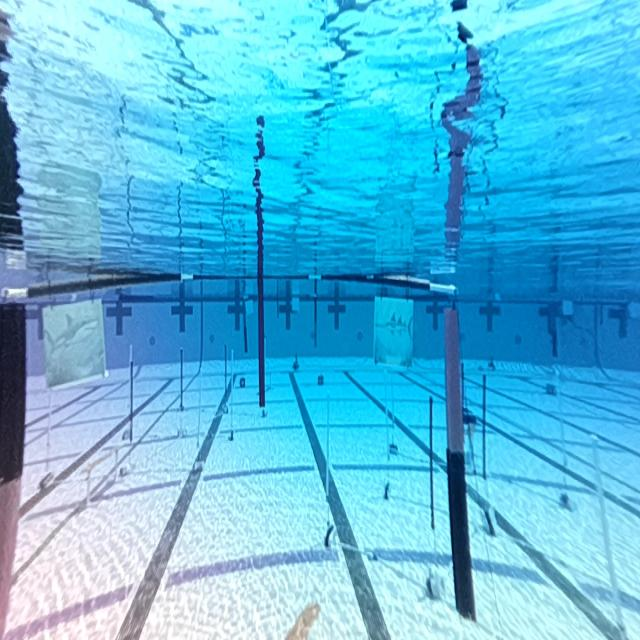pointed_nose: (371, 296, 415, 371)
round_nose: (41, 299, 109, 383)
